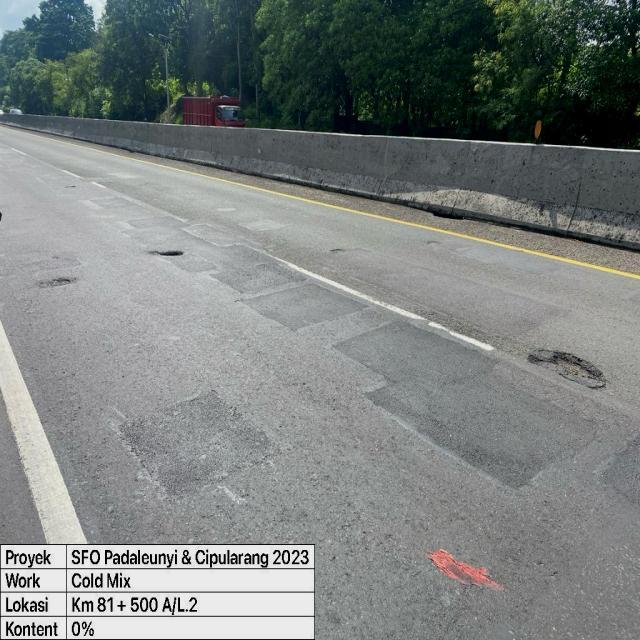Buraco: (524, 346, 612, 393), (32, 276, 73, 290), (146, 249, 187, 259)
